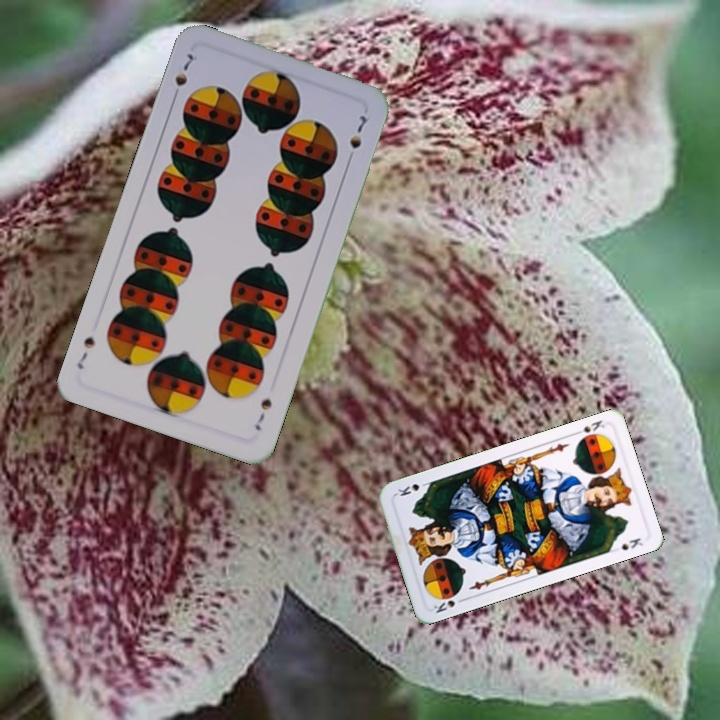S7: (168, 46, 198, 103), (251, 395, 275, 433)
SK: (570, 416, 607, 443), (429, 594, 468, 616)
